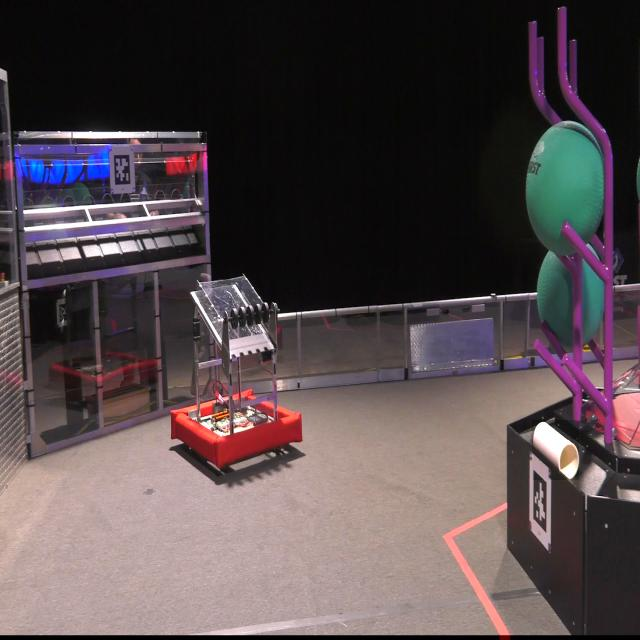Coral: (532, 420, 579, 480)
